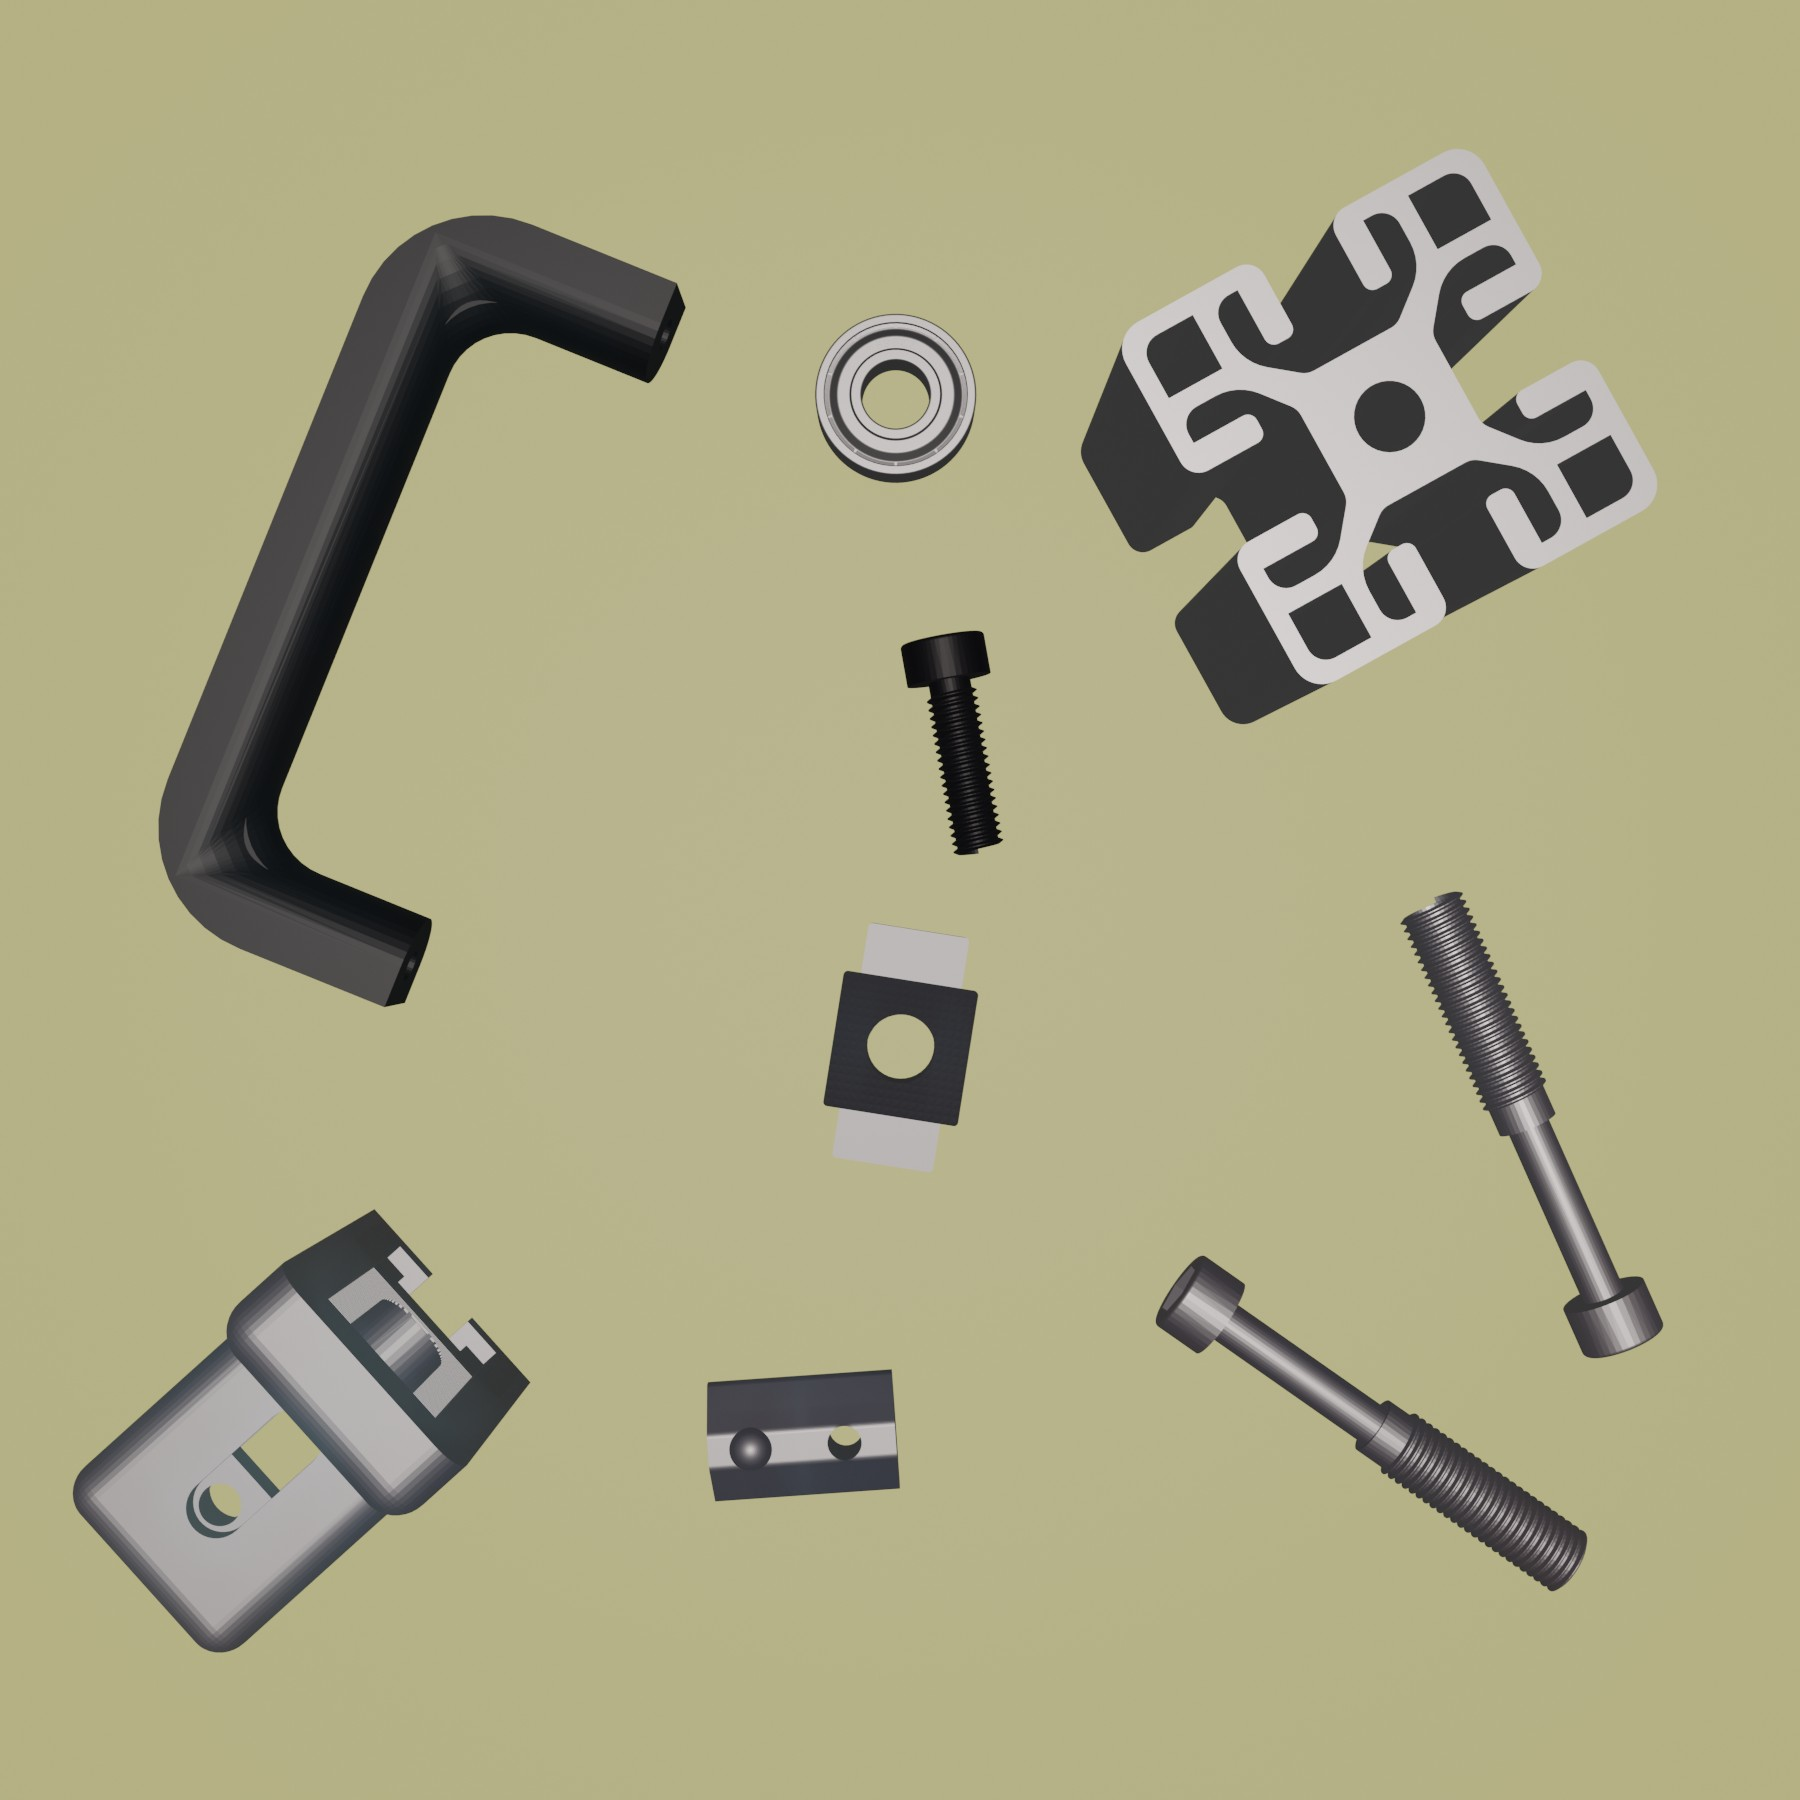Aluminium Extension: (1080, 147, 1662, 727)
Ball Bearing: (813, 312, 979, 486)
Multiwinkel: (71, 1207, 532, 1653)
Pull Handle: (157, 211, 691, 1009)
Shoulder Socket Head Cap Screw: (1151, 1251, 1591, 1596), (1396, 884, 1665, 1362)
Socket Head Cap Screw: (898, 628, 1005, 859)
T Nut Square: (819, 923, 982, 1179)
T Spring Nut: (701, 1363, 905, 1507)
